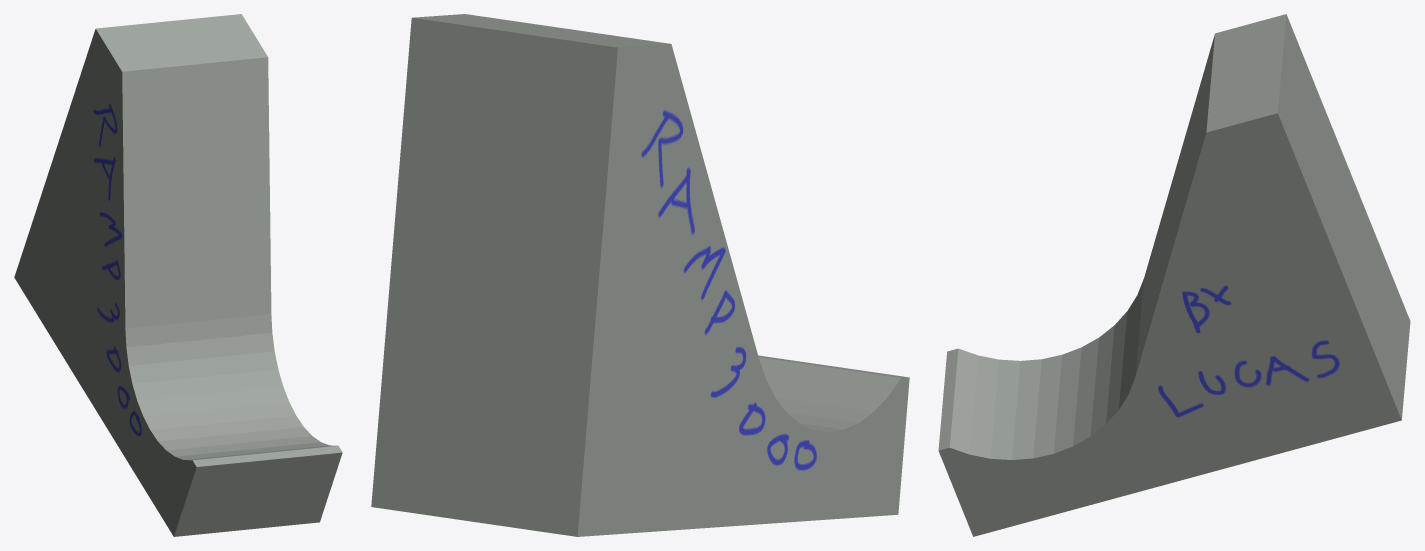
File: Rampe v1.fbx
3 views of the same model, side by side, from view 1: azimuth 30°, elevation 25°; view 2: azimuth 150°, elevation 25°; view 3: azimuth 270°, elevation 25° (orthographic). The views are drawn at different scales.
Visible parts, largest first — view 1: node_id4; view 2: node_id4; view 3: node_id4.
Boxes of the visible parts, <box> form: node_id4: <box>14,14,342,536</box>; node_id4: <box>371,14,909,536</box>; node_id4: <box>938,14,1410,536</box>.
Size of the model in its own units: 0.2934 by 0.59 by 0.5321.
1 material, 1 textured.
